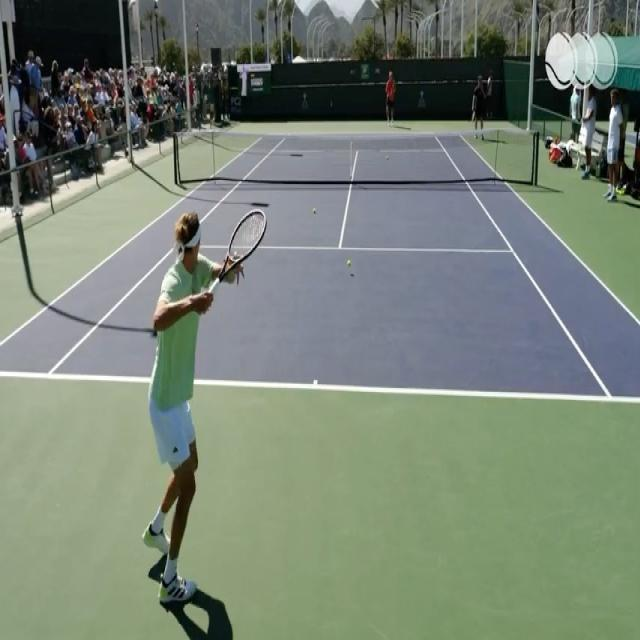forehand-ready: (151, 211, 269, 606)
